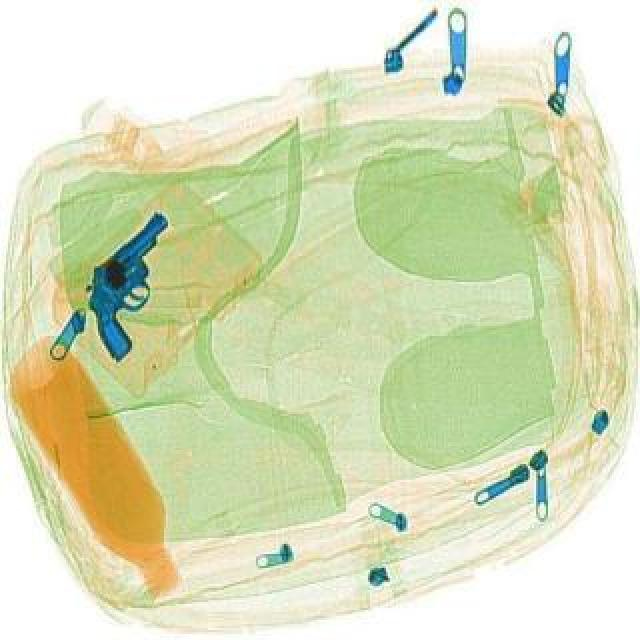gun: (60, 198, 192, 368)
